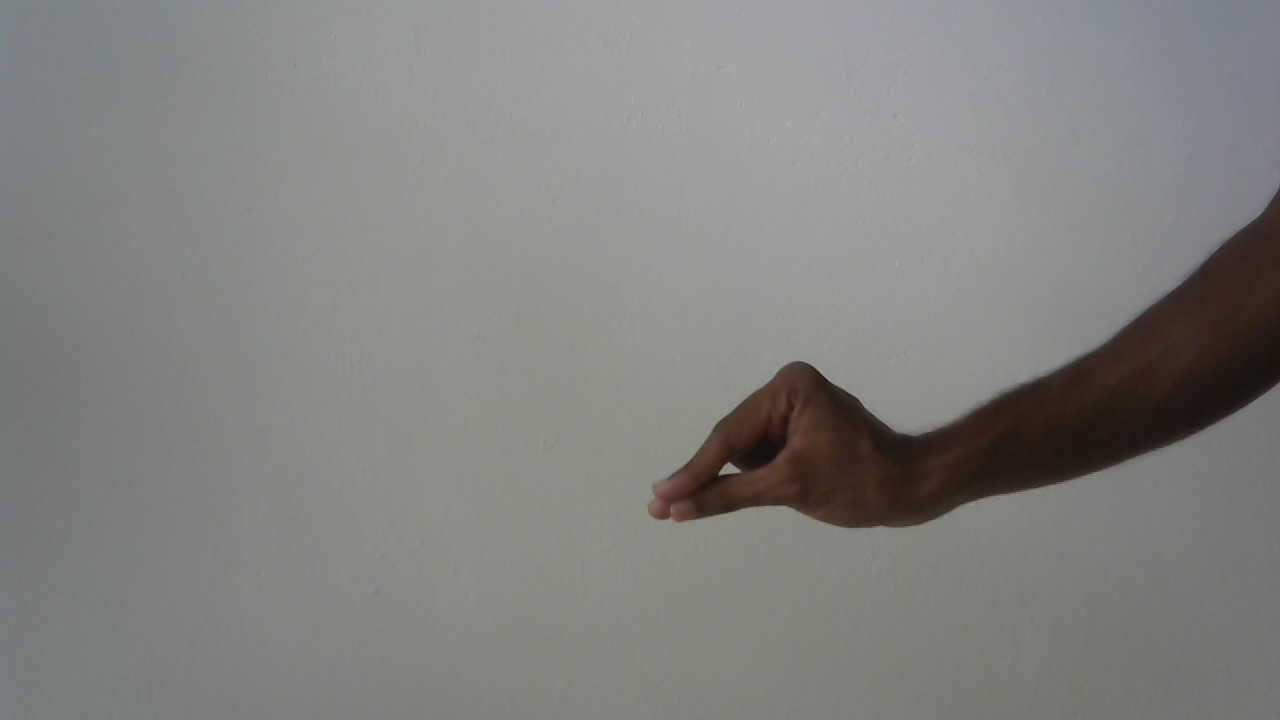no: (633, 353, 938, 569)
